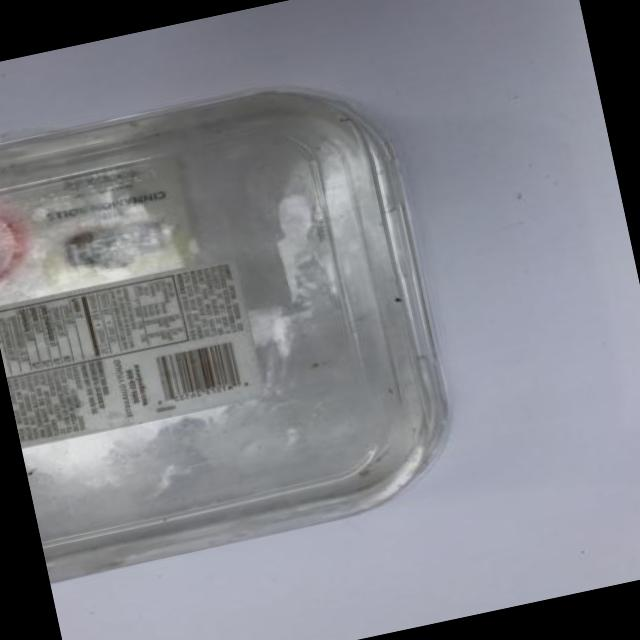plastic: (0, 91, 446, 581)
